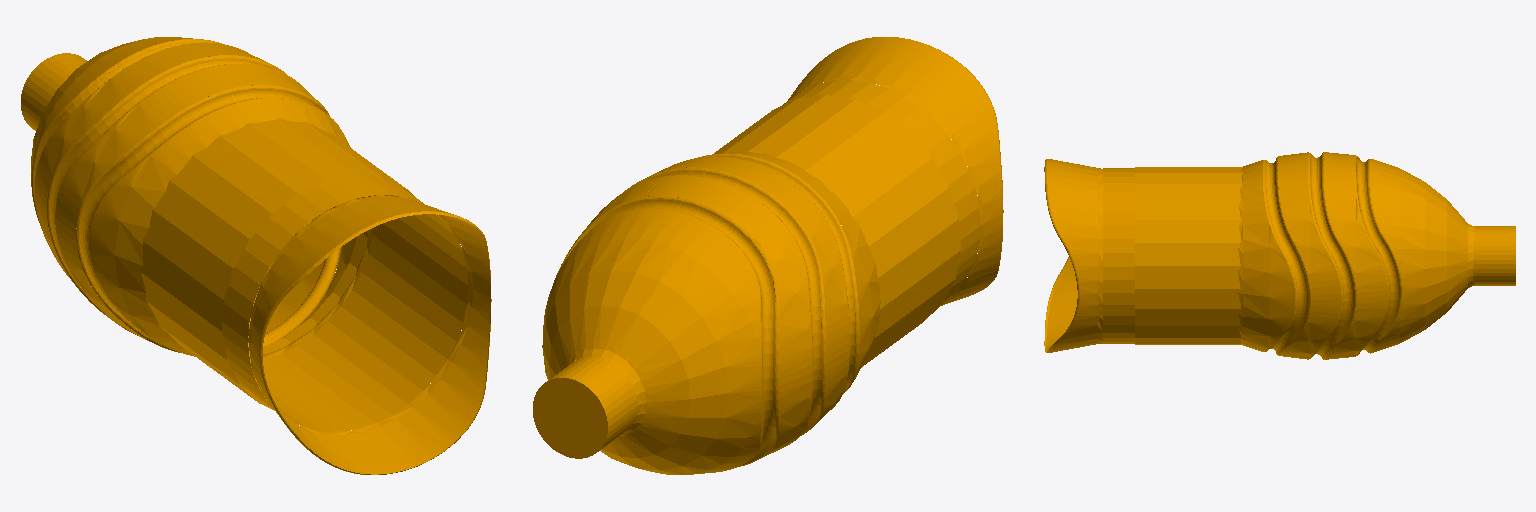
The robot description file, URDF, robot "partnet_f0a5f6d2cf8fcb72c12d8e00a78db6e2":
<?xml version="1.0" ?>
<robot name="partnet_f0a5f6d2cf8fcb72c12d8e00a78db6e2">
	<!-- <link name="link_0">
		<inertial>
            <mass value="1.0" />
            <origin xyz="0 0 0" rpy="0 0 0" />
            <inertia ixx="1.0" ixy="0" ixz="0" iyy="1.0" iyz="0" izz="1.0" />
        </inertial>
		<visual name="lid-7">
			<origin xyz="-0.007005959241653967 0 -0.007542109902568375"/>
			<geometry>
				<mesh filename="textured_objs/original-7.obj" scale="0.15 0.15 0.15"/>
			</geometry>
		</visual>
		<collision>
			<origin xyz="-0.007005959241653967 0 -0.007542109902568375"/>
			<geometry>
				<mesh filename="textured_objs/original-7.obj" scale="0.15 0.15 0.15"/>
			</geometry>
		</collision>
	</link> -->
<!-- 	<joint name="joint_0" type="fixed">
		<origin xyz="0.0 0 0.0"/>
		<axis xyz="0 1 0"/>
		<child link="link_0"/>
		<parent link="link_0_helper"/>
	</joint> -->

	<link name="link_1">
		<visual name="body-5">
			<origin xyz="0 0 0"/>
			<geometry>
				<mesh filename="textured_objs/original-4.obj" scale="0.15 0.15 0.15"/>
			</geometry>
		</visual>
		<visual name="body-5">
			<origin xyz="0 0 0"/>
			<geometry>
				<mesh filename="textured_objs/original-3.obj" scale="0.15 0.15 0.15"/>
			</geometry>
		</visual>
		<visual name="body-5">
			<origin xyz="0 0 0"/>
			<geometry>
				<mesh filename="textured_objs/original-8.obj" scale="0.15 0.15 0.15"/>
			</geometry>
		</visual>
		<visual name="body-5">
			<origin xyz="0 0 0"/>
			<geometry>
				<mesh filename="textured_objs/original-6.obj" scale="0.15 0.15 0.15"/>
			</geometry>
		</visual>
		<visual name="body-5">
			<origin xyz="0 0 0"/>
			<geometry>
				<mesh filename="textured_objs/original-2.obj" scale="0.15 0.15 0.15"/>
			</geometry>
		</visual>
		<visual name="neck-6">
			<origin xyz="0 0 0"/>
			<geometry>
				<mesh filename="textured_objs/original-5.obj" scale="0.15 0.15 0.15"/>
			</geometry>
		</visual>
		<collision>
			<origin xyz="0 0 0"/>
			<geometry>
				<mesh filename="textured_objs/original-4.obj" scale="0.15 0.15 0.15"/>
			</geometry>
		</collision>
		<collision>
			<origin xyz="0 0 0"/>
			<geometry>
				<mesh filename="textured_objs/original-3.obj" scale="0.15 0.15 0.15"/>
			</geometry>
		</collision>
		<collision>
			<origin xyz="0 0 0"/>
			<geometry>
				<mesh filename="textured_objs/original-8.obj" scale="0.15 0.15 0.15"/>
			</geometry>
		</collision>
		<collision>
			<origin xyz="0 0 0"/>
			<geometry>
				<mesh filename="textured_objs/original-6.obj" scale="0.15 0.15 0.15"/>
			</geometry>
		</collision>
		<collision>
			<origin xyz="0 0 0"/>
			<geometry>
				<mesh filename="textured_objs/original-2.obj" scale="0.15 0.15 0.15"/>
			</geometry>
		</collision>
		<collision>
			<origin xyz="0 0 0"/>
			<geometry>
				<mesh filename="textured_objs/original-5.obj" scale="0.15 0.15 0.15"/>
			</geometry>
		</collision>
	</link>

<!-- 	<link name="link_0_helper"/>
	<joint name="joint_2" type="fixed">
		<origin xyz="0.007005959241653967 0 0.007542109902568375"/>
		<axis xyz="0 1 0"/>
		<child link="link_0_helper"/>
		<parent link="link_1"/>
		<limit lower="0" upper="0.06400000000000006"/>
	</joint> -->
</robot>

--- Facts derived from the render (not from the file) ---
The picture shows the robot from 3 angles, left to right: view 1: azimuth 30°, elevation 25°; view 2: azimuth 150°, elevation 25°; view 3: azimuth 270°, elevation 25°; orthographic projection.
Model partnet_f0a5f6d2cf8fcb72c12d8e00a78db6e2 with 1 links and 0 joints (none), rooted at link_1, posed every joint at zero.
Links seen in each view (by area): view 1: link_1; view 2: link_1; view 3: link_1.
Boxes of the visible links, x1,y1,x2,y2 form: link_1: [21, 37, 491, 474]; link_1: [533, 37, 1003, 474]; link_1: [1044, 152, 1515, 359].
Size in the robot's own frame: 0.0772 by 0.175 by 0.0772 metres.
5 mesh visuals loaded from 6 distinct referenced files (5 OBJ); not drawn: 1 (reference not matched to a file when rendering).